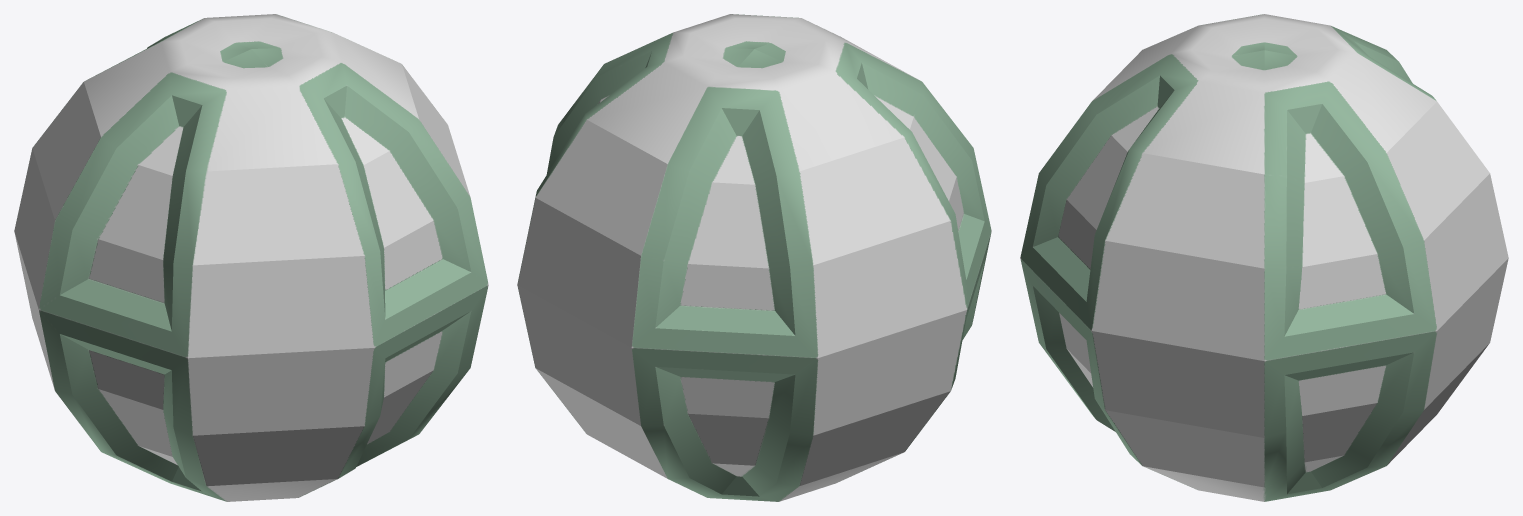
The model's file is Ball_01.fbx.
The picture shows the model from 3 angles, left to right: view 1: azimuth 30°, elevation 25°; view 2: azimuth 150°, elevation 25°; view 3: azimuth 270°, elevation 25°; orthographic projection.
Visible parts, largest first — view 1: Ball_01; view 2: Ball_01; view 3: Ball_01.
Boxes of the visible parts, left/top/right/bottom form: Ball_01: left=14, top=14, right=488, bottom=501; Ball_01: left=517, top=14, right=991, bottom=501; Ball_01: left=1020, top=14, right=1508, bottom=501.
Bounding box in the file's own units: 2 × 1.88 × 2.
1 material, 1 textured.
